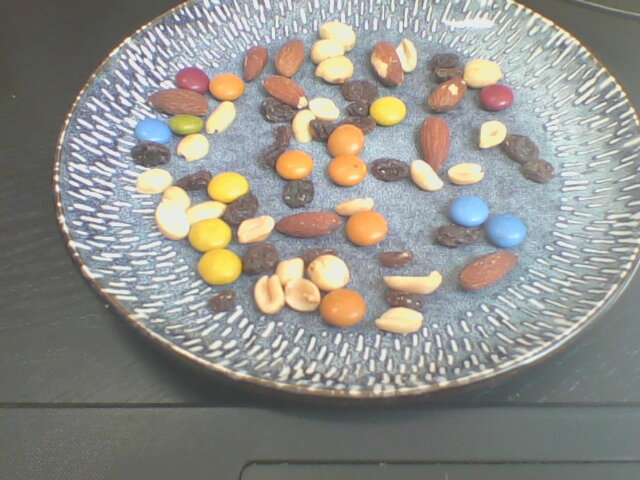almond: (458, 251, 519, 290), (146, 88, 209, 116), (275, 212, 341, 237), (420, 117, 450, 170), (263, 75, 308, 109), (372, 42, 404, 88), (427, 78, 466, 112), (273, 39, 304, 79), (244, 46, 269, 84)
mm: (320, 288, 366, 327), (197, 248, 242, 285), (346, 211, 386, 245), (326, 154, 367, 186), (190, 218, 231, 250), (485, 215, 525, 247), (208, 172, 249, 203), (328, 124, 363, 158), (447, 196, 488, 225), (275, 150, 312, 180), (371, 97, 406, 126), (135, 119, 173, 145), (209, 73, 244, 101), (176, 68, 210, 95), (477, 85, 512, 111), (168, 114, 203, 135)
peanut: (308, 255, 350, 290), (156, 198, 190, 239), (383, 270, 441, 293), (376, 307, 424, 334), (283, 278, 320, 313), (254, 274, 284, 314), (463, 59, 502, 89), (236, 215, 275, 244), (411, 159, 445, 191), (319, 21, 356, 50), (316, 55, 354, 82), (205, 100, 235, 133), (135, 168, 173, 193), (185, 200, 226, 223), (177, 133, 210, 160), (310, 40, 347, 63), (447, 163, 484, 185), (479, 120, 507, 148), (276, 257, 304, 285), (292, 109, 315, 143), (308, 97, 340, 120), (335, 197, 373, 216), (163, 186, 191, 211), (396, 39, 417, 72)
raisin: (436, 223, 485, 248), (499, 134, 539, 163), (241, 244, 276, 275), (225, 194, 258, 225), (131, 141, 169, 167), (369, 158, 410, 182), (282, 179, 314, 208), (520, 158, 555, 184), (262, 98, 295, 123), (341, 80, 377, 101), (175, 171, 211, 190), (384, 293, 425, 309), (310, 120, 341, 141), (378, 250, 413, 268), (260, 143, 284, 168), (341, 116, 375, 133), (209, 290, 236, 311), (431, 53, 461, 70), (434, 66, 465, 81), (275, 126, 291, 151), (346, 101, 371, 116)
